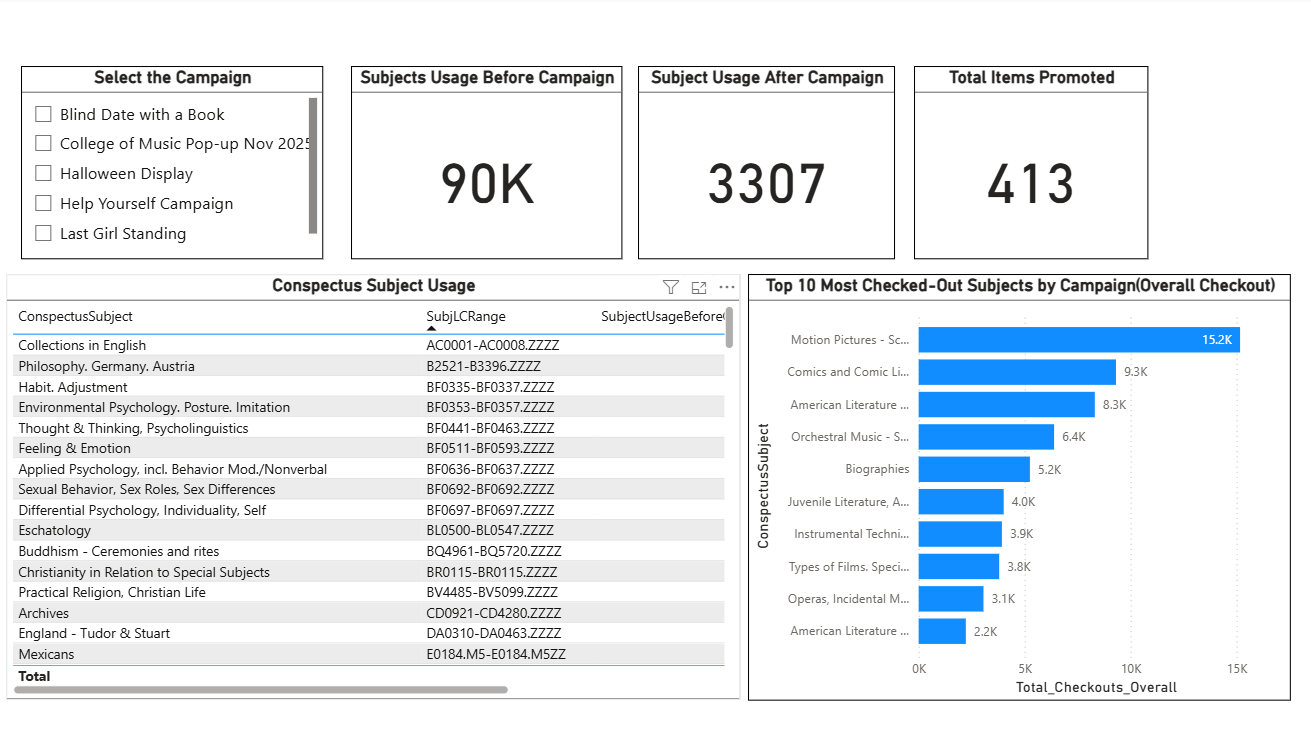

What the dashboard file says about the page in this screenshot:
{"tool":"powerbi","page":{"name":"USAGE BY SUBJECT","canvas":[1280,720],"ordinal":6},"visuals":[{"type":"textbox","box":[22.7,651.3,90.6,32.8],"z":0},{"type":"tableEx","title":"Conspectus Subject Usage","fields":{"Values":["H.vCheckoutsOverTimeByFullConspectus.ConspectusSubject","H.vCheckoutsOverTimeByFullConspectus.SubjLCRange","H.vCheckoutsOverTimeByFullConspectus.SubjectUsageBeforeCampaign_new","H.vCheckoutsOverTimeByFullConspectus.SubjectUsageAfterCampaign_new"]},"box":[7.8,269.4,713.9,414.3],"z":1000},{"type":"card","title":"Subjects Usage Before Campaign","fields":{"Values":["H.vCheckoutsOverTimeByFullConspectus.SubjectUsageBeforeCampaign_new"]},"box":[343.3,67.1,263.6,187.7],"z":2000},{"type":"card","title":"Subject Usage After Campaign","fields":{"Values":["H.vCheckoutsOverTimeByFullConspectus.SubjectUsageAfterCampaign_new"]},"box":[622.5,67.1,250,187.7],"z":3000},{"type":"clusteredBarChart","title":"Top 10 Most Checked-Out Subjects by Campaign(Overall Checkout)","fields":{"Category":["H.vCheckoutsOverTimeByFullConspectus.ConspectusSubject"],"Y":["H.vCheckoutsOverTimeByFullConspectus.Total_Checkouts_Overall"]},"box":[729.7,269.1,527.9,414.9],"z":4000},{"type":"slicer","title":"Select the Campaign","fields":{"Values":["MergedPromoRecords.Campaign Name"]},"box":[22.4,67.1,293.7,187.7],"z":5000},{"type":"card","title":"Total Items Promoted","fields":{"Values":["MergedPromoRecords.Total_Resources Promoted"]},"box":[890.9,67.1,227.6,187.7],"z":6000}]}

Visuals, with their boxes in screenshot pixels (x1, y1, x2, y2), scaled from the page's 1280x720 canvas onto the 1311x730 screenshot:
textbox: x1=23, y1=660, x2=116, y2=694
"Conspectus Subject Usage" tableEx: x1=8, y1=273, x2=739, y2=693
"Subjects Usage Before Campaign" card: x1=352, y1=68, x2=622, y2=258
"Subject Usage After Campaign" card: x1=638, y1=68, x2=894, y2=258
"Top 10 Most Checked-Out Subjects by Campaign(Overall Checkout)" clusteredBarChart: x1=747, y1=273, x2=1288, y2=694
"Select the Campaign" slicer: x1=23, y1=68, x2=324, y2=258
"Total Items Promoted" card: x1=912, y1=68, x2=1146, y2=258
